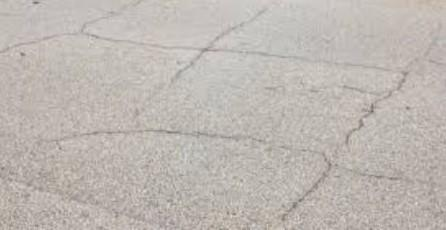crack: (54, 4, 275, 48), (337, 66, 409, 155), (36, 125, 287, 148), (271, 154, 329, 225), (206, 48, 353, 75), (140, 53, 202, 115), (336, 161, 442, 195), (0, 33, 91, 46)
